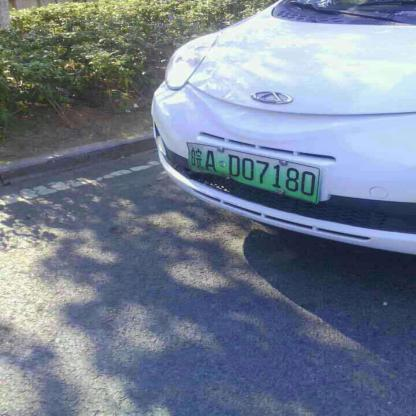lp: (183, 142, 320, 206)
